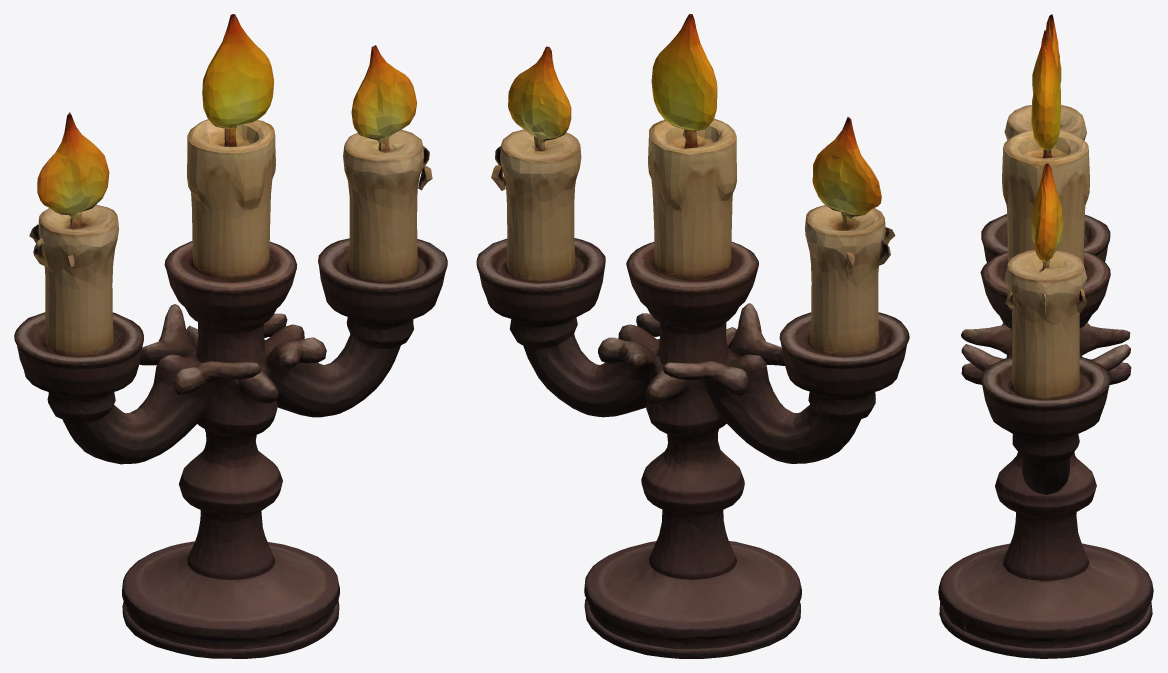
Rendered from candlestick.glb.
The picture shows the model from 3 angles, left to right: view 1: azimuth 30°, elevation 25°; view 2: azimuth 150°, elevation 25°; view 3: azimuth 270°, elevation 25°; orthographic projection. The views are drawn at different scales.
Parts seen in each view (by area): view 1: world; view 2: world; view 3: world.
Part boxes in pixels (box(x1,y1,x2,y2)): world: box(14, 14, 447, 658); world: box(476, 14, 909, 658); world: box(938, 14, 1153, 658).
Size of the model in its own units: 0.7242 by 0.9995 by 0.3339.
1 material, 1 textured.
